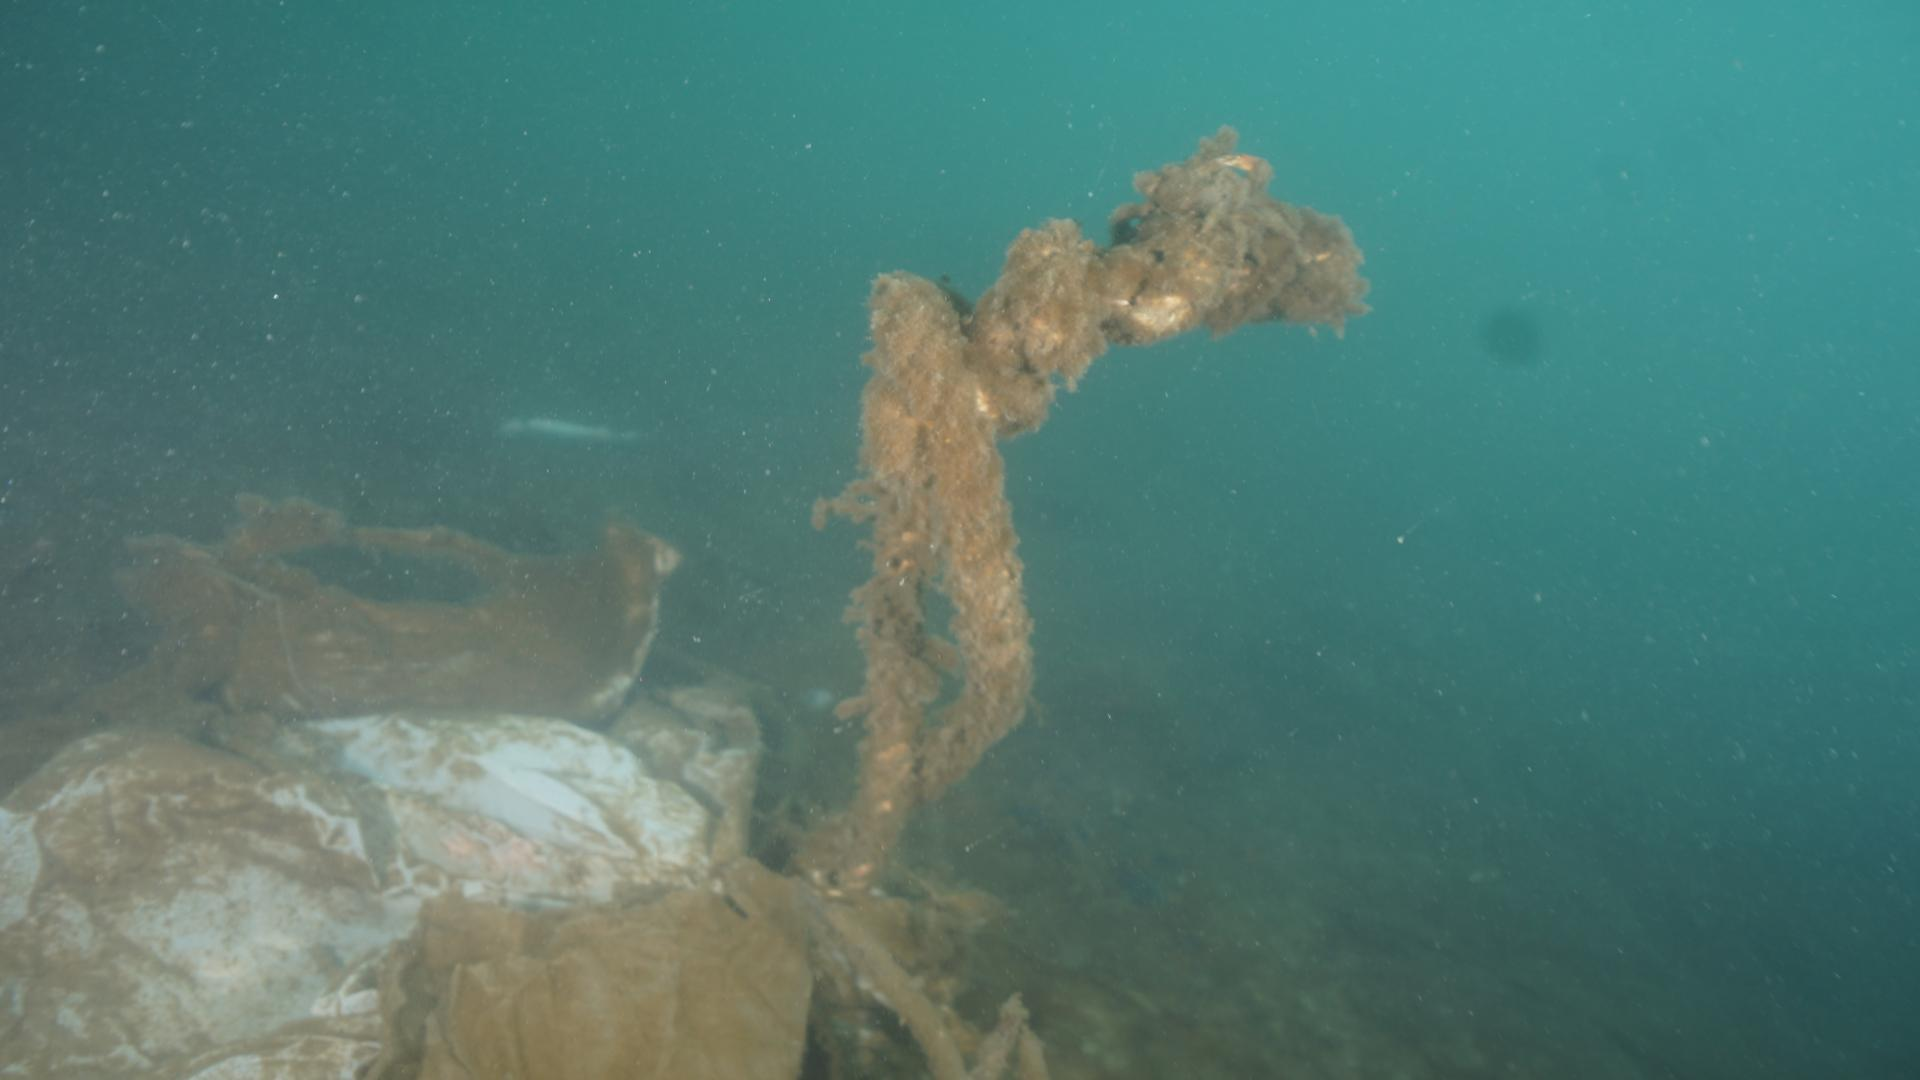bundle of ropes: (832, 123, 1367, 899)
